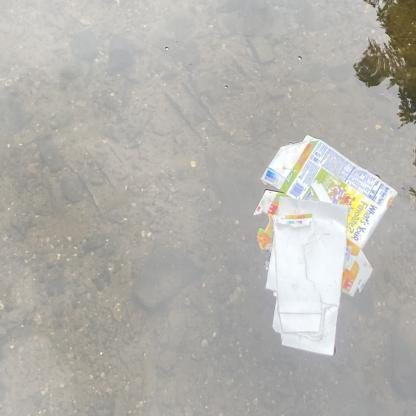trash: (256, 129, 402, 304), (262, 190, 354, 364)
